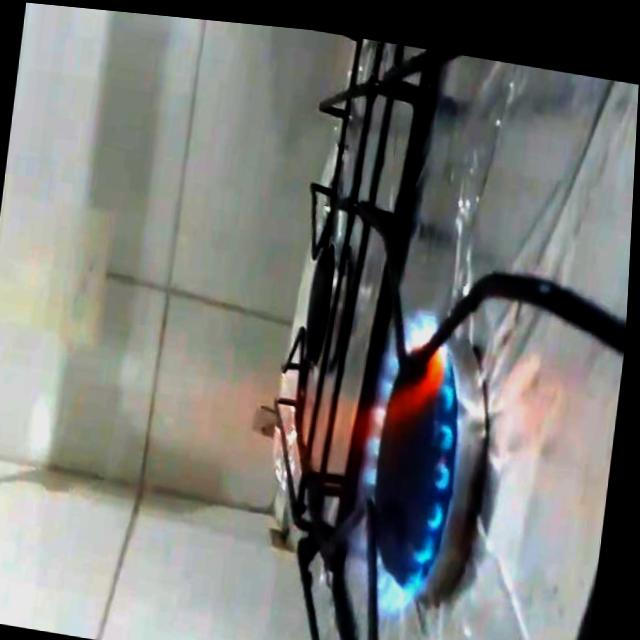Fire: (329, 279, 485, 626)
